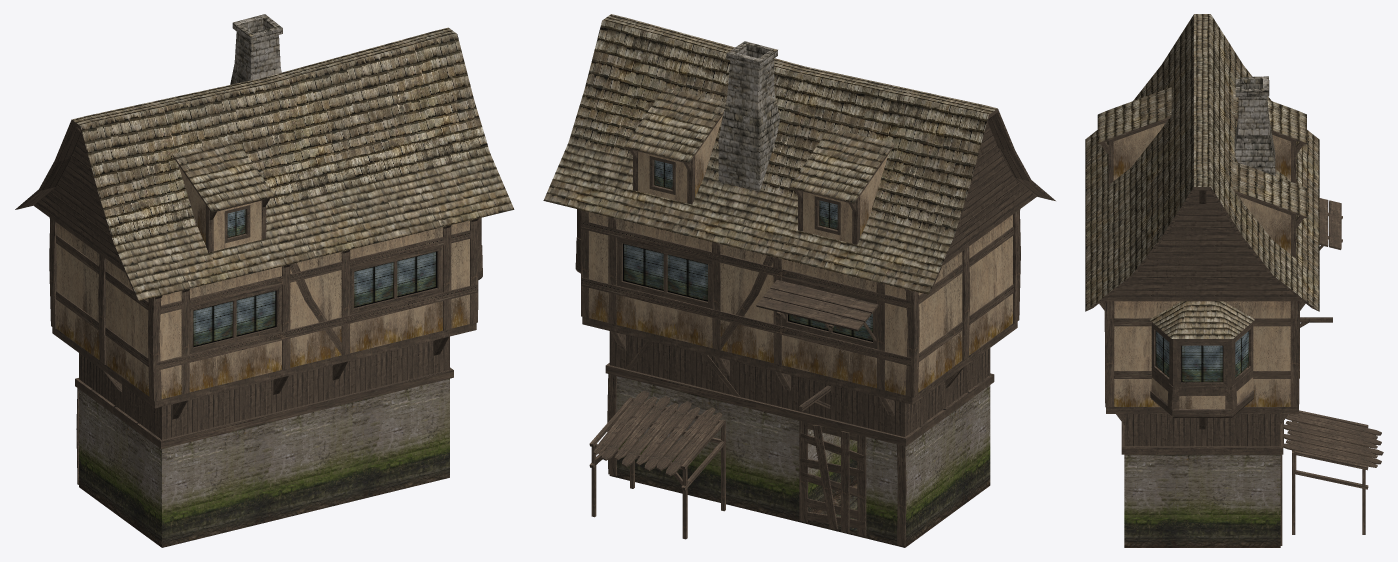
The model's file is f1_house04.dae.
3 views of the same model, side by side, from view 1: azimuth 30°, elevation 25°; view 2: azimuth 150°, elevation 25°; view 3: azimuth 270°, elevation 25° (orthographic). The views are drawn at different scales.
Visible parts, largest first — view 1: f1_Nouse04_Layer1; view 2: f1_Nouse04_Layer1; view 3: f1_Nouse04_Layer1.
Part boxes in pixels (x1,y1,x2,y2): f1_Nouse04_Layer1: (15,14,514,547); f1_Nouse04_Layer1: (543,14,1055,547); f1_Nouse04_Layer1: (1085,14,1383,547).
Bounding box in the file's own units: 8.17 × 8.63 × 5.72.
